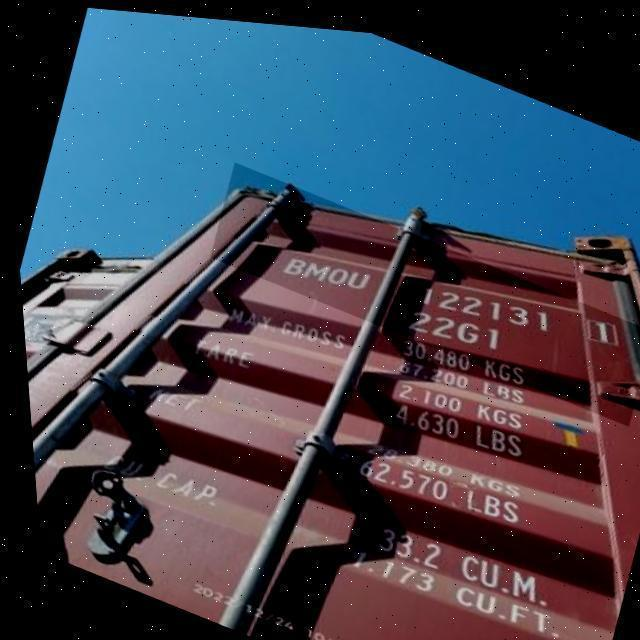ISO: (409, 307, 502, 358)
container_number: (266, 248, 621, 344)
